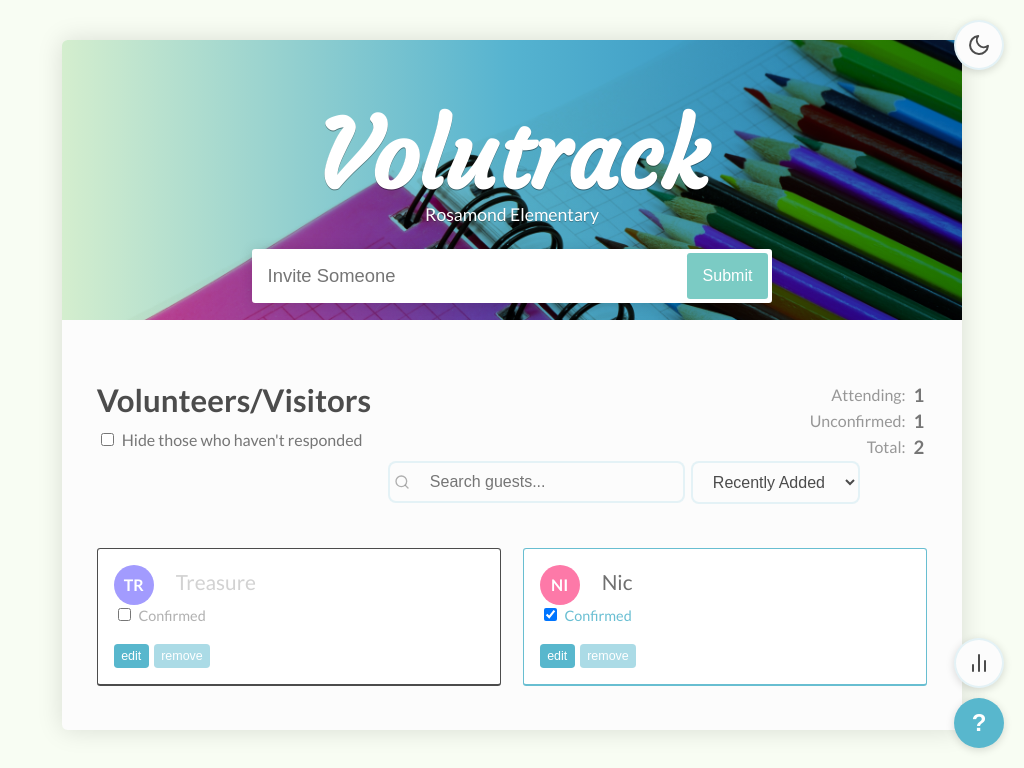
Test: App Component › adds a new guest when form is submitted
The width and height of the screenshot is (1024, 768).
Type "John Doe" into the field with placeholder "Invite Someone" at (471, 276), box [256, 253, 687, 299]
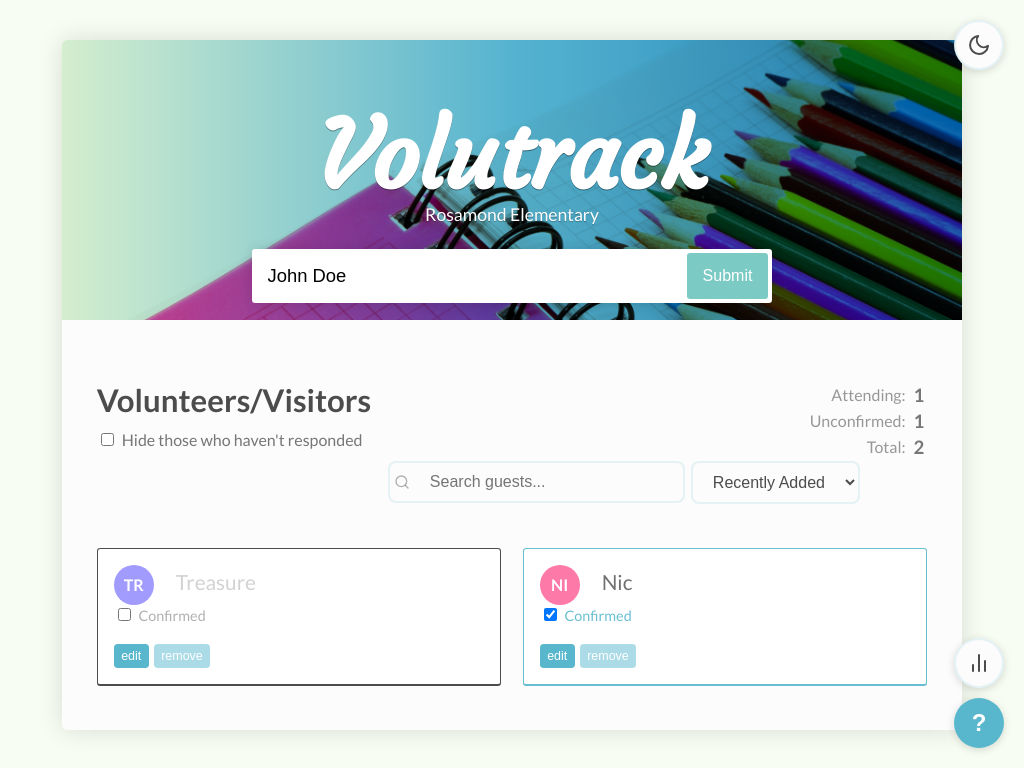
Click the button "Submit" at (728, 276), box [687, 253, 768, 299]
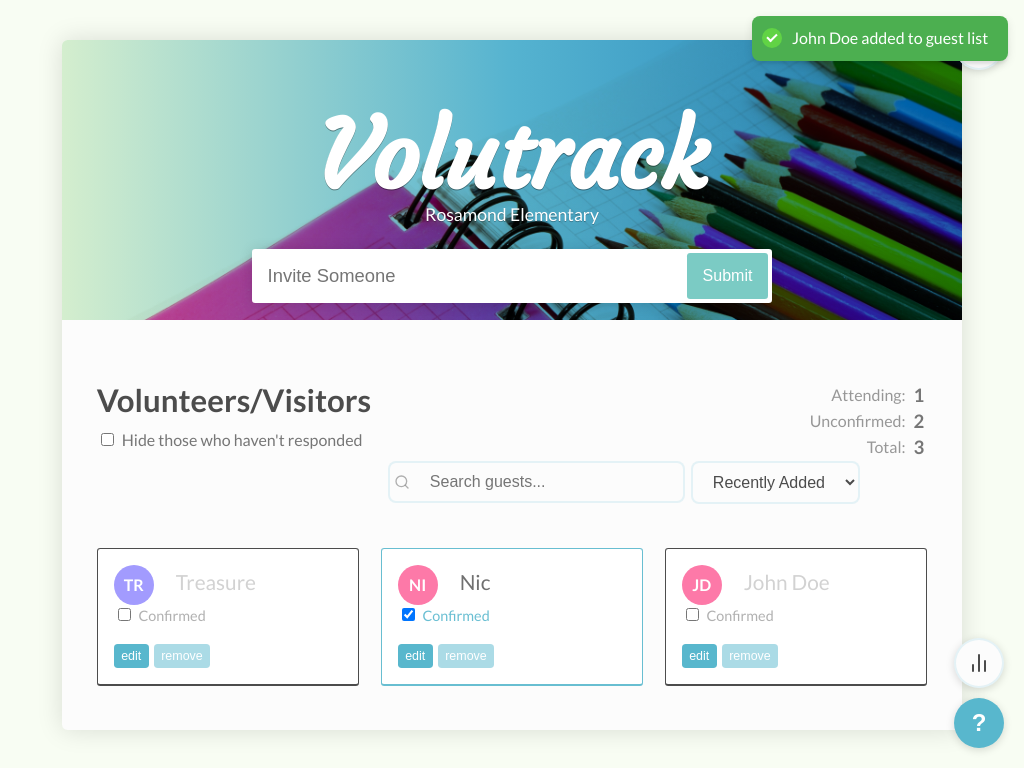
Now the text "John Doe" is shown, box [744, 569, 830, 594]
